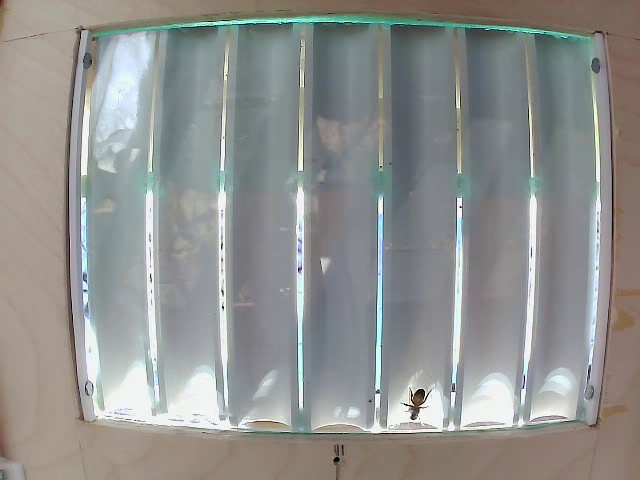bee: (391, 363, 435, 426)
